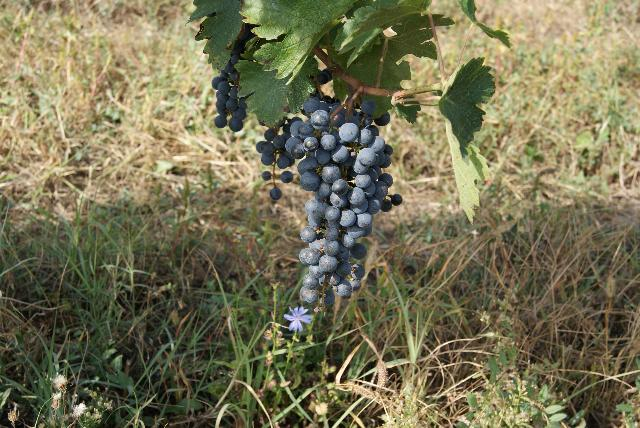grapes: (290, 98, 401, 308)
